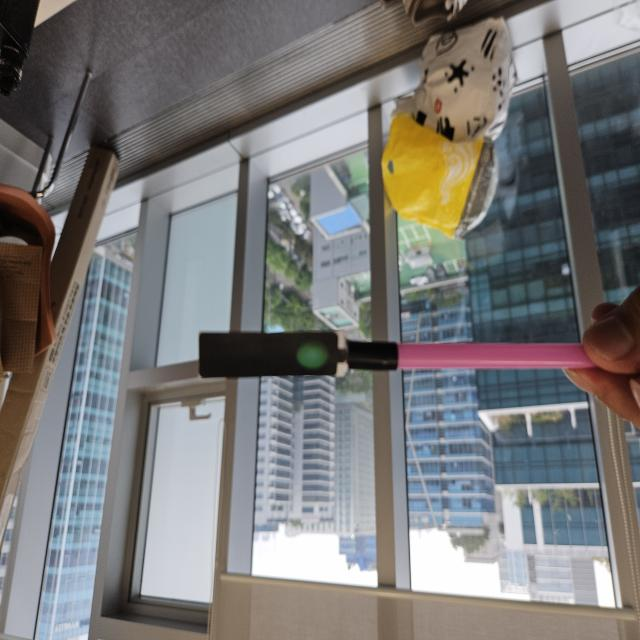traffic light: (197, 331, 349, 381)
